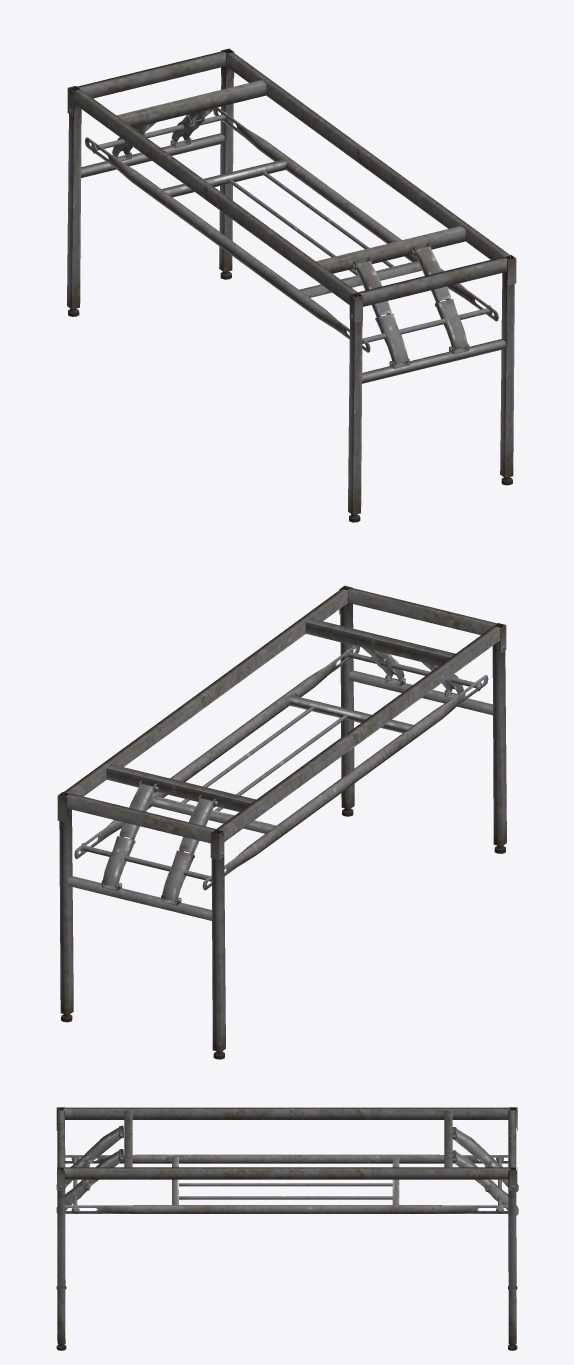
File: 043_FoldingTable.fbx
3 renders of one model, top to bottom at view 1: azimuth 30°, elevation 25°; view 2: azimuth 150°, elevation 25°; view 3: azimuth 270°, elevation 25°, orthographic. The views are drawn at different scales.
Visible parts, largest first — view 1: LOD_1_Group_0_Sub_1__sm30_003_FoldingTable01A_A_Mat; view 2: LOD_1_Group_0_Sub_1__sm30_003_FoldingTable01A_A_Mat; view 3: LOD_1_Group_0_Sub_1__sm30_003_FoldingTable01A_A_Mat.
Boxes of the visible parts, box(x1,y1,x2,y2) form: LOD_1_Group_0_Sub_1__sm30_003_FoldingTable01A_A_Mat: box(67, 48, 516, 522); LOD_1_Group_0_Sub_1__sm30_003_FoldingTable01A_A_Mat: box(57, 585, 506, 1059); LOD_1_Group_0_Sub_1__sm30_003_FoldingTable01A_A_Mat: box(56, 1107, 518, 1350).
Bounding box in the file's own units: 0.7692 × 0.8393 × 2.19.
